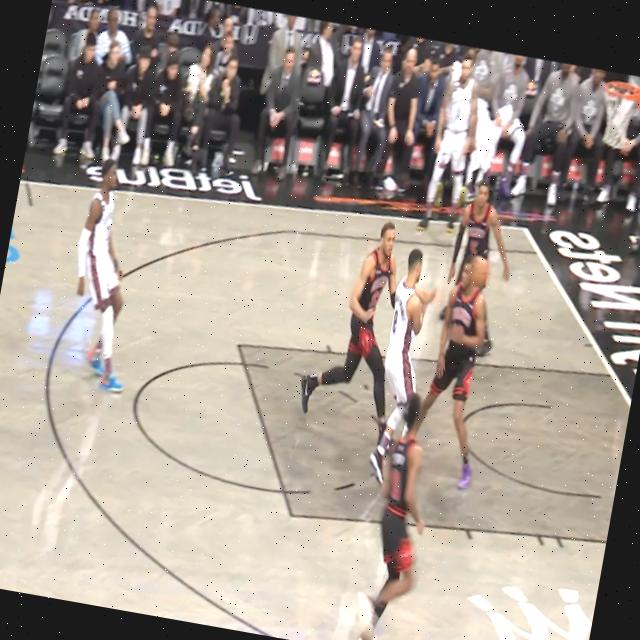no foul: (262, 178, 540, 527), (23, 129, 187, 434)
